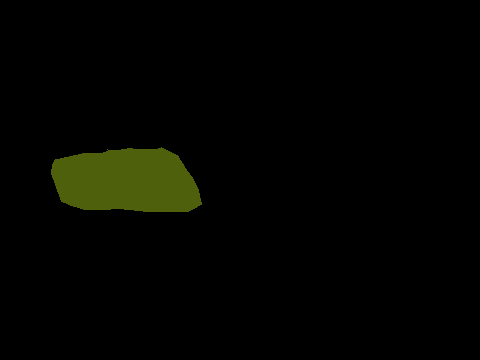Train: (51, 147, 202, 211)
